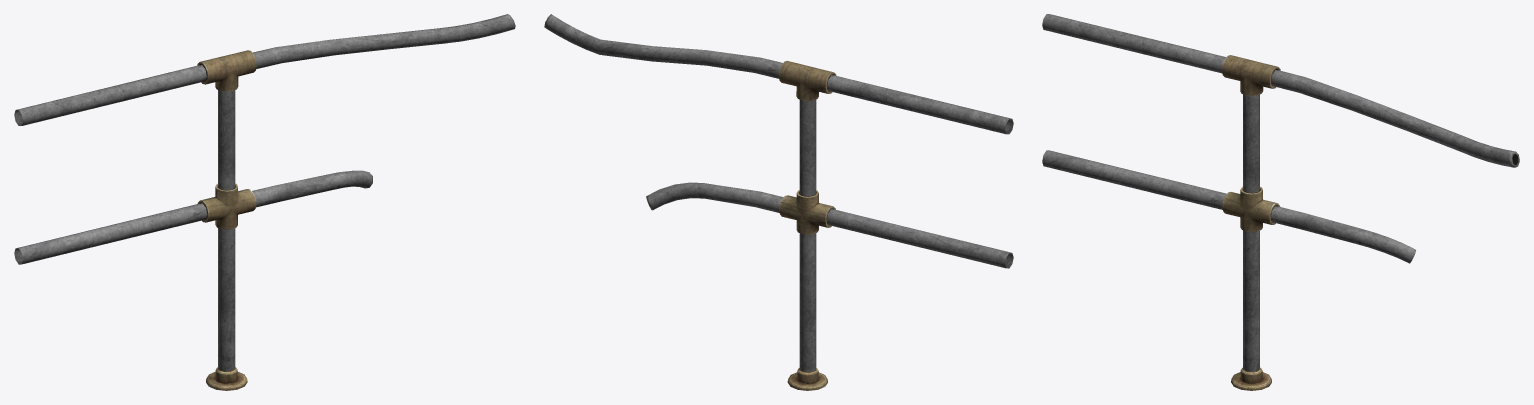
File: railing_pplant_end_mangled_02.dae
3 views of the same model, side by side, from view 1: azimuth 30°, elevation 25°; view 2: azimuth 150°, elevation 25°; view 3: azimuth 330°, elevation 25° (orthographic). The views are drawn at different scales.
Parts seen in each view (by area): view 1: railing_pplant_mangled_end_01; view 2: railing_pplant_mangled_end_01; view 3: railing_pplant_mangled_end_01.
Boxes of the visible parts, left/top/right/bottom form: railing_pplant_mangled_end_01: left=14, top=14, right=515, bottom=390; railing_pplant_mangled_end_01: left=544, top=14, right=1013, bottom=390; railing_pplant_mangled_end_01: left=1042, top=14, right=1519, bottom=390.
Size of the model in its own units: 2.34 by 1.49 by 0.226.
